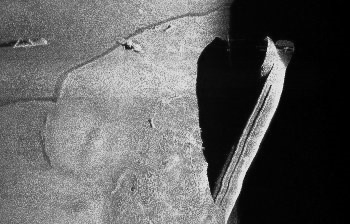ship: (213, 36, 294, 221)
